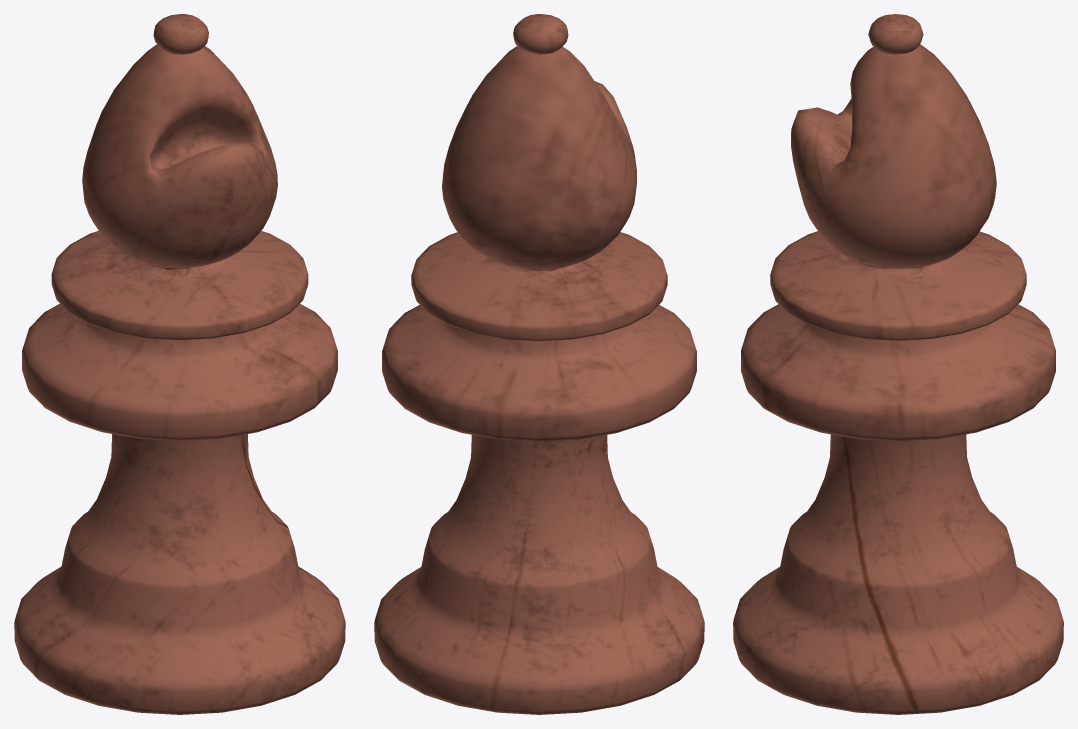
The model's file is GEO_BlackBishop_01.gltf.
3 views of the same model, side by side, from view 1: azimuth 30°, elevation 25°; view 2: azimuth 150°, elevation 25°; view 3: azimuth 270°, elevation 25° (orthographic).
Visible parts, largest first — view 1: GEO_BlackBishop_01; view 2: GEO_BlackBishop_01; view 3: GEO_BlackBishop_01.
Boxes of the visible parts, left/top/right/bottom form: GEO_BlackBishop_01: left=14, top=14, right=345, bottom=714; GEO_BlackBishop_01: left=374, top=14, right=704, bottom=714; GEO_BlackBishop_01: left=733, top=14, right=1063, bottom=714.
Bounding box in the file's own units: 0.0372 × 0.0782 × 0.0372.
